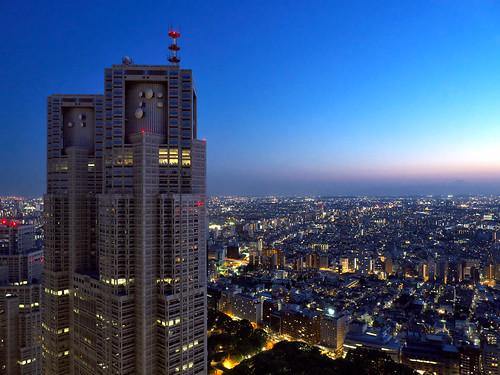building: (38, 56, 212, 370)
